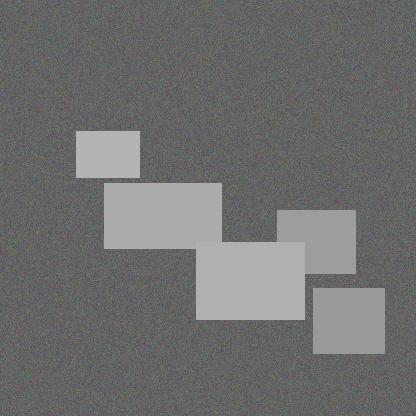occupied: (258, 265, 312, 341), (252, 205, 326, 251)
